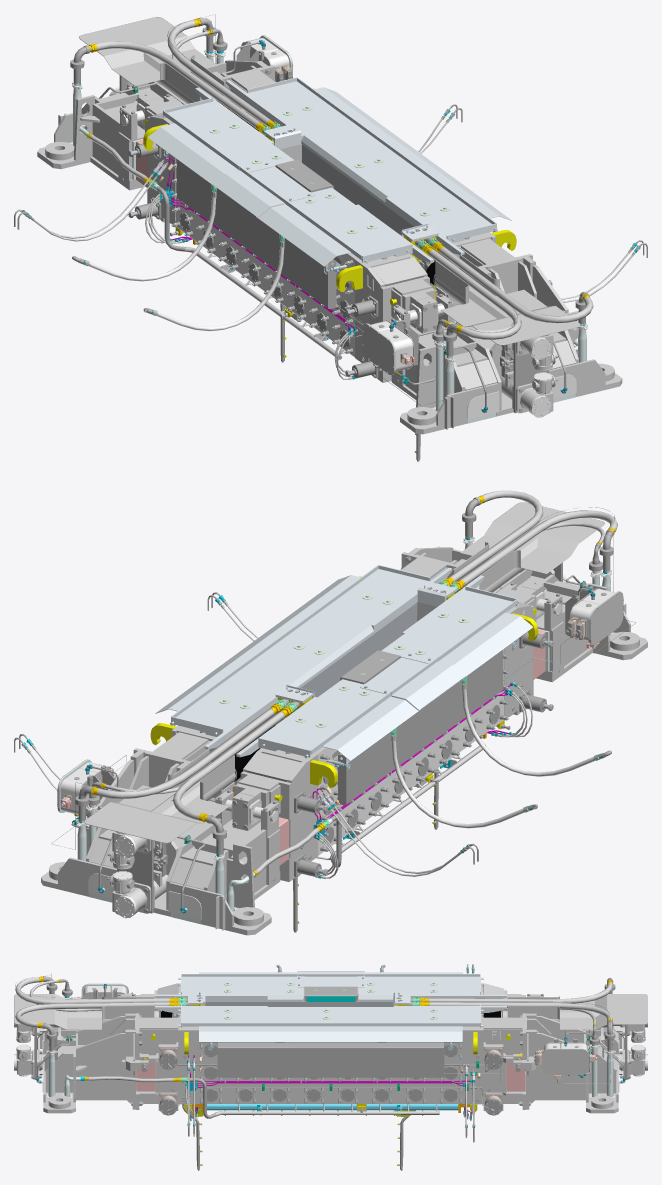
Rendered from MOLD.glb.
3 renders of one model, top to bottom at view 1: azimuth 30°, elevation 25°; view 2: azimuth 150°, elevation 25°; view 3: azimuth 270°, elevation 25°, orthographic. The views are drawn at different scales.
Visible parts, largest first — view 1: Model; view 2: Model; view 3: Model.
Part boxes in pixels (bbox=[...]): Model: bbox=[14, 14, 647, 461]; Model: bbox=[14, 490, 647, 935]; Model: bbox=[14, 964, 647, 1170].
Size of the model in its own units: 4.26 by 2.13 by 7.02.
